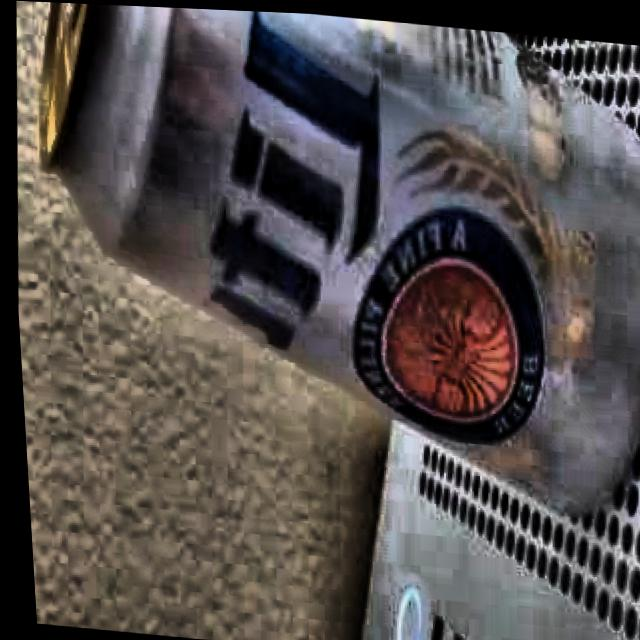metal: (0, 0, 640, 544)
